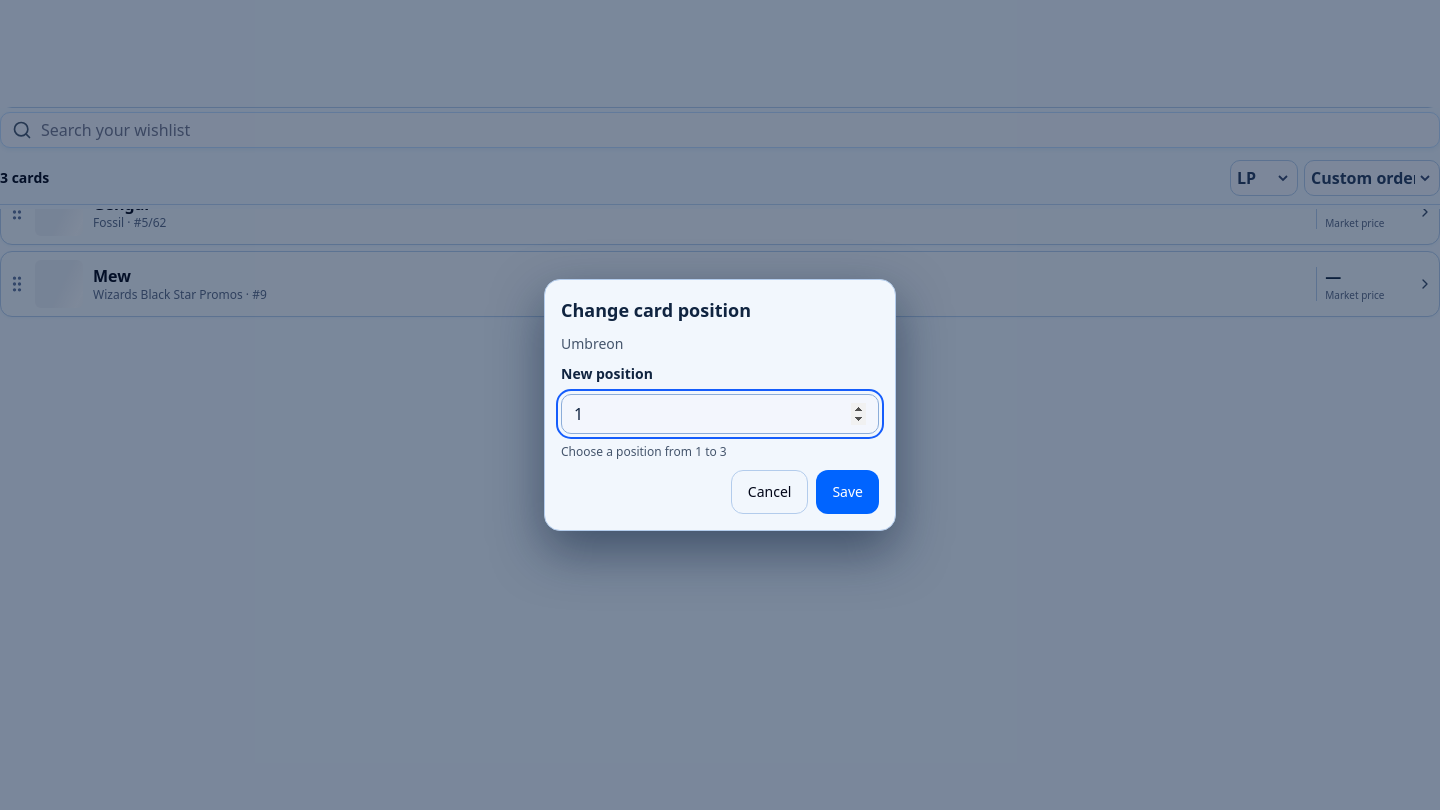
Scenario: opens an inline numeric-position dialog from the drag handle and validates the requested index
Earlier steps of the test are not shown.
Expected: the dialog "Change card position" is shown, x1=544 y1=279 x2=896 y2=531
Replace the text in the number field labelled "New position" with "4": [720, 414] box x1=561 y1=394 x2=879 y2=434
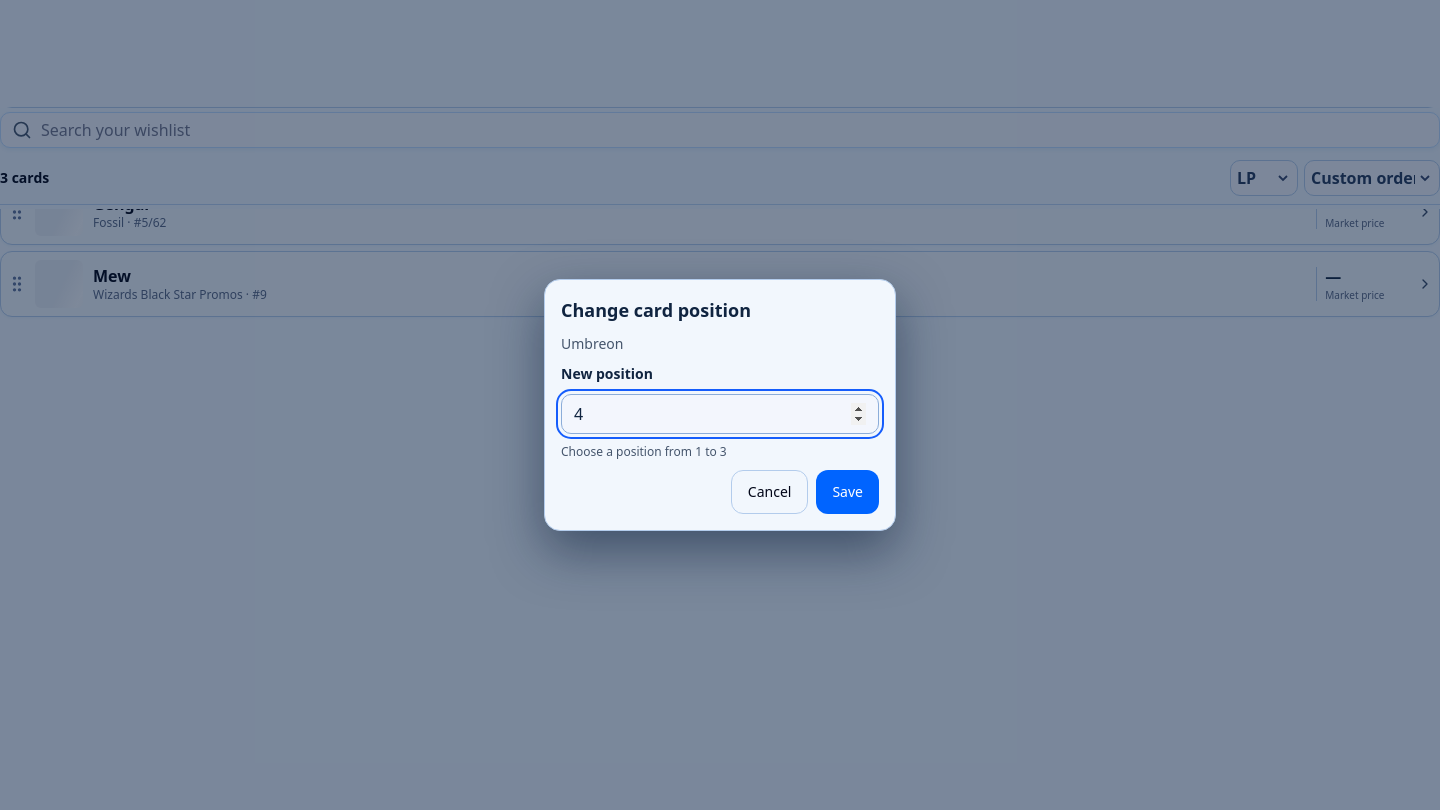
Submit the form named "Save", box x1=545 y1=280 x2=895 y2=530
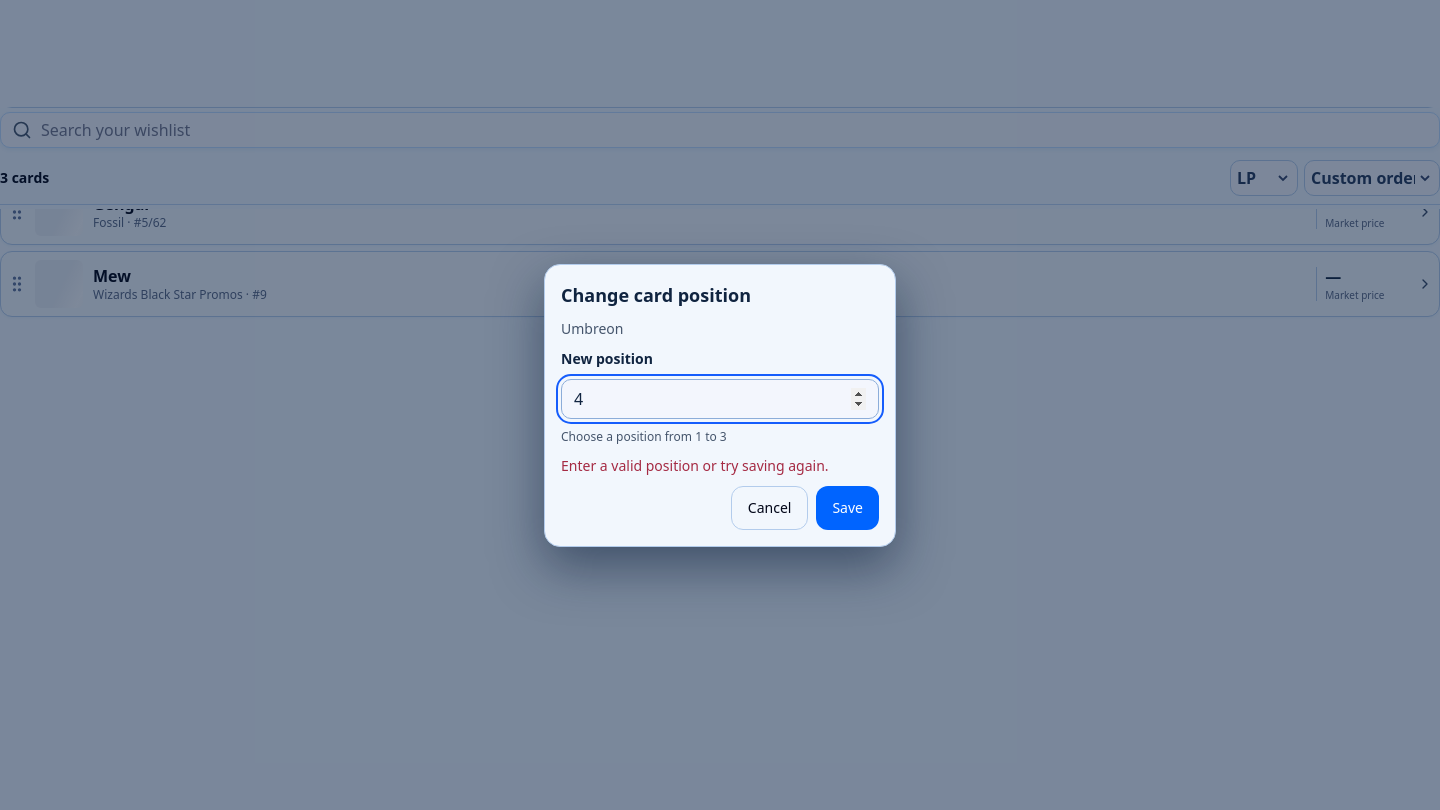
Now the message "Enter a valid position or try saving again." is shown, box x1=561 y1=456 x2=829 y2=474
Replace the text in the number field labelled "New position" with "3": [720, 398] box x1=561 y1=378 x2=879 y2=418
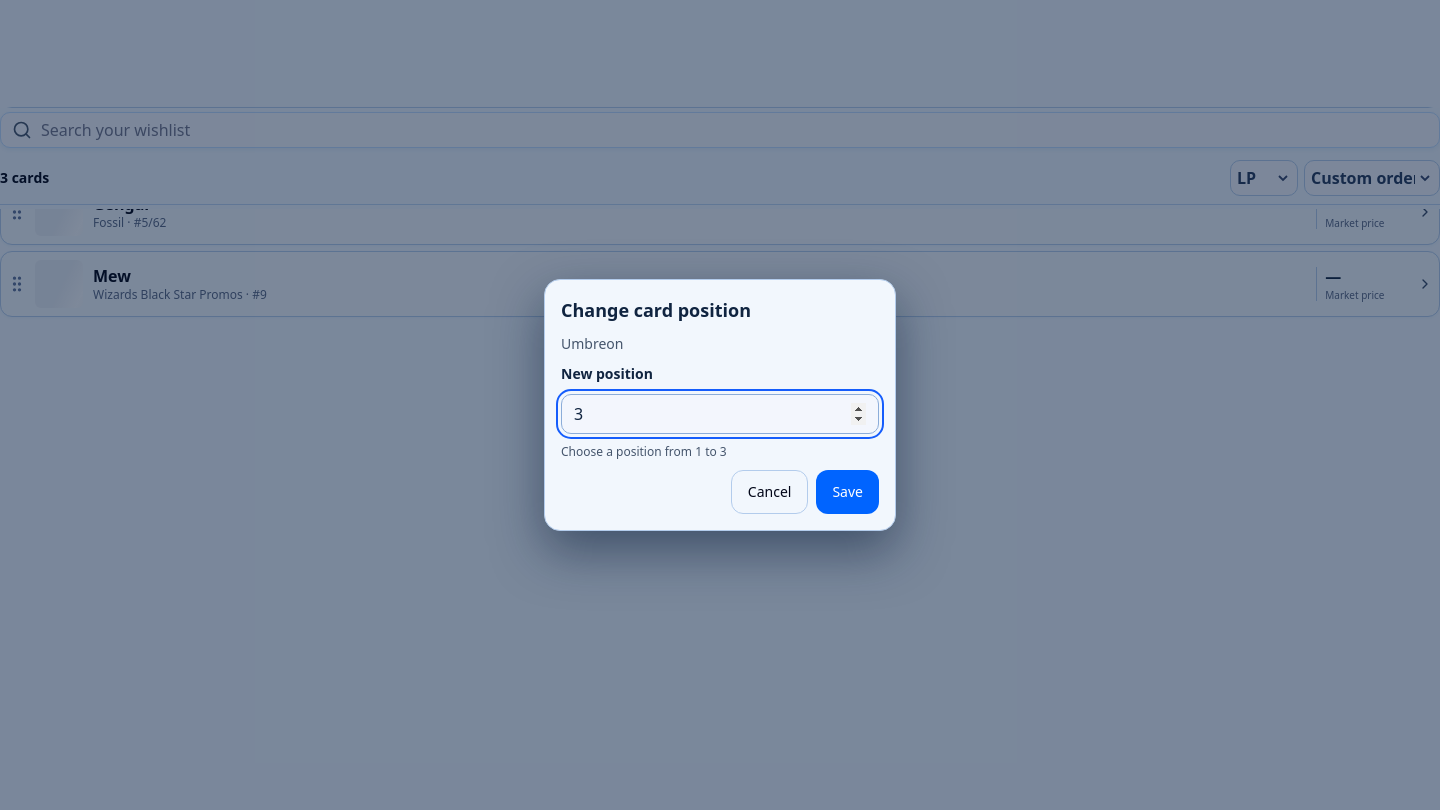
Submit the form named "Save", box x1=545 y1=280 x2=895 y2=530
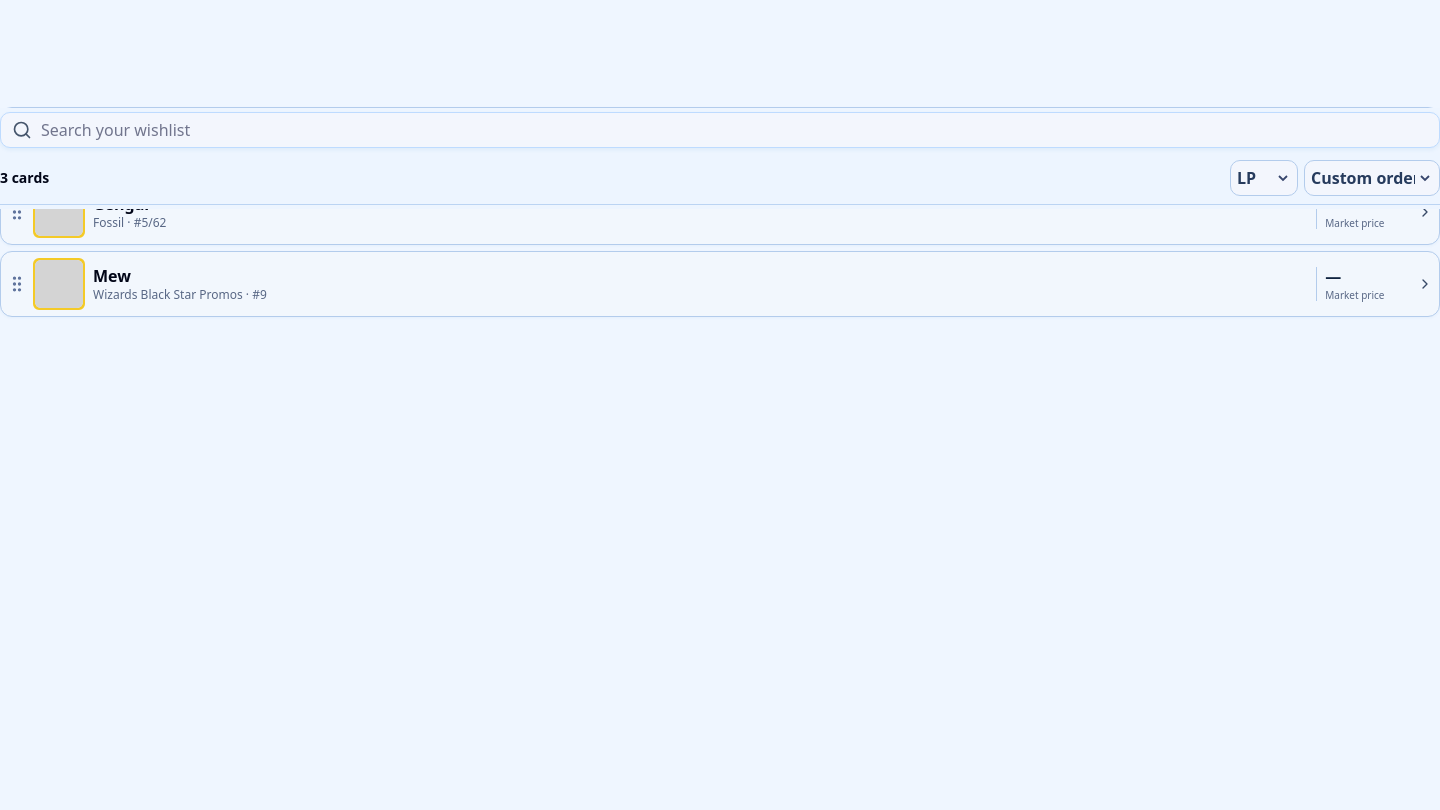
Now the heading "Change card position" is gone
